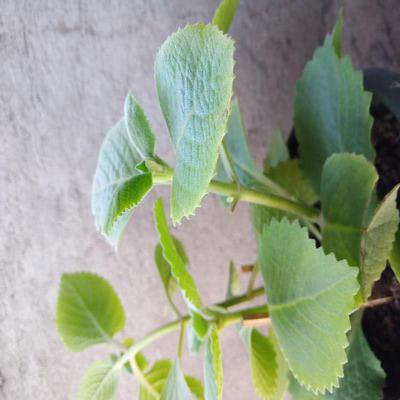Oregano: (76, 73, 399, 386)
